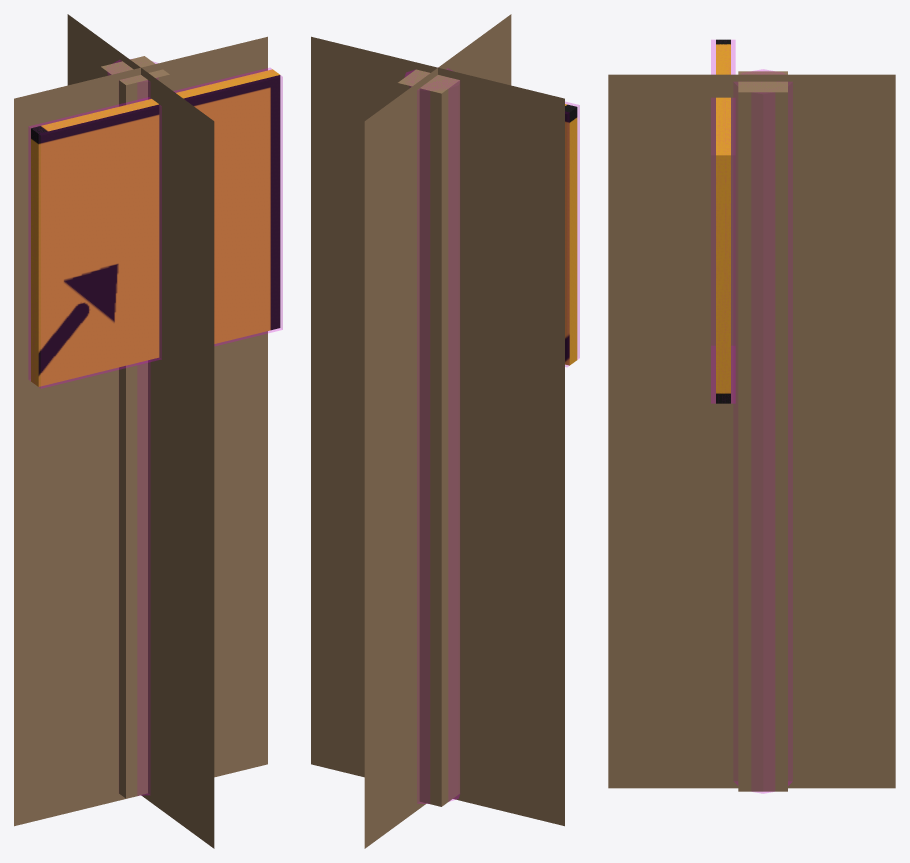
Rendered from arrow_slight_left.dae.
3 views of the same model, side by side, from view 1: azimuth 30°, elevation 25°; view 2: azimuth 150°, elevation 25°; view 3: azimuth 270°, elevation 25° (orthographic).
Visible parts, largest first — view 1: arrow_slight_left_a50, arrow_slight_left_a800, Colmesh_sign-1, Colmesh_post-1, arrow_slight_left_a200; view 2: arrow_slight_left_a50, arrow_slight_left_a800, Colmesh_post-1, arrow_slight_left_a200, Colmesh_sign-1; view 3: arrow_slight_left_a50, arrow_slight_left_a800, Colmesh_post-1, Colmesh_sign-1.
Boxes of the visible parts, x1,y1,x2,y2 form: arrow_slight_left_a50: (14, 14, 267, 848); arrow_slight_left_a800: (31, 56, 280, 798); Colmesh_sign-1: (28, 68, 282, 388); Colmesh_post-1: (108, 60, 157, 795); arrow_slight_left_a200: (119, 61, 169, 796); arrow_slight_left_a50: (311, 14, 564, 848); arrow_slight_left_a800: (397, 69, 577, 806); Colmesh_post-1: (405, 68, 459, 803); arrow_slight_left_a200: (413, 71, 459, 805); Colmesh_sign-1: (565, 102, 579, 366); arrow_slight_left_a50: (608, 74, 895, 788); arrow_slight_left_a800: (716, 39, 787, 791); Colmesh_post-1: (734, 69, 792, 793); Colmesh_sign-1: (711, 40, 735, 403).
Size of the model in its own units: 0.5775 by 0.5775 by 1.58.
3 materials, 1 textured.
